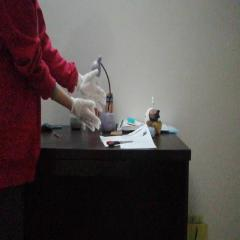gloved: (78, 69, 107, 105), (72, 98, 102, 131)
